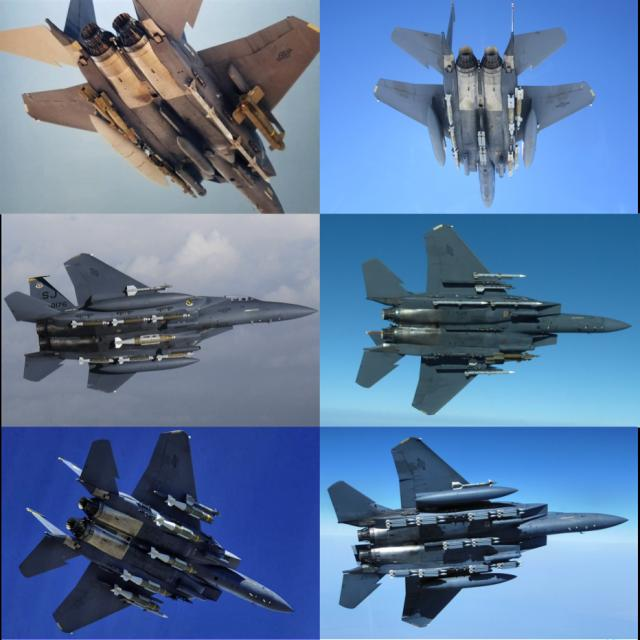MIL_Plane: (1, 0, 320, 214), (327, 436, 630, 627), (18, 430, 295, 634), (361, 224, 633, 415), (373, 2, 596, 210), (3, 252, 320, 393)
